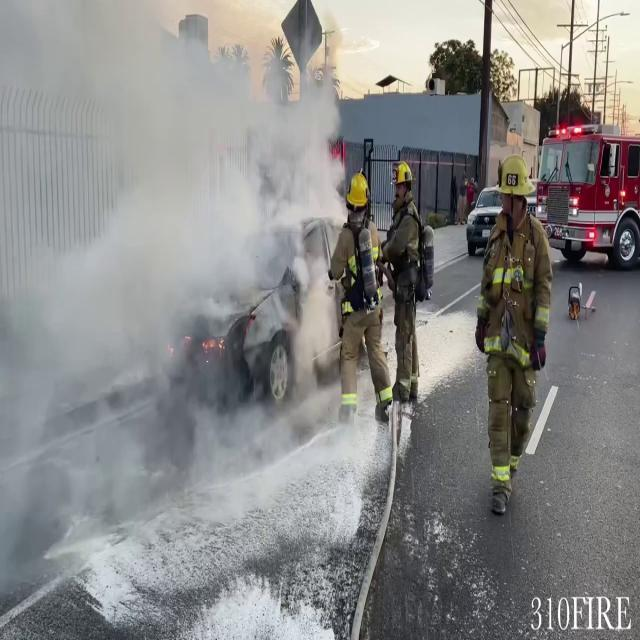Smoke: (1, 1, 350, 444)
